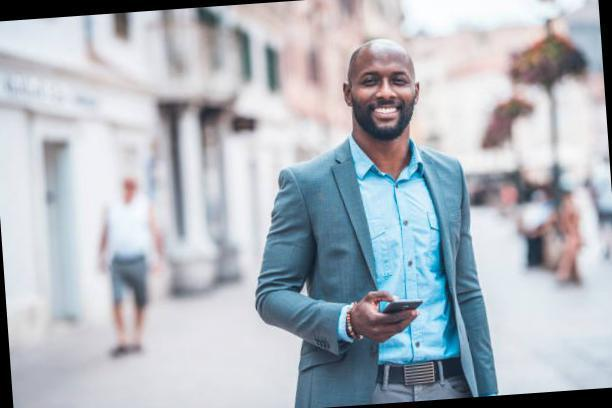Sober: (352, 47, 412, 134)
